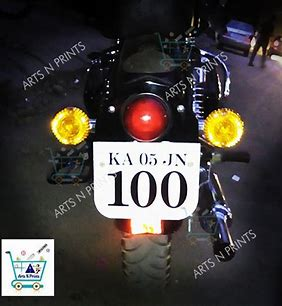license-plate: (93, 140, 204, 222)
